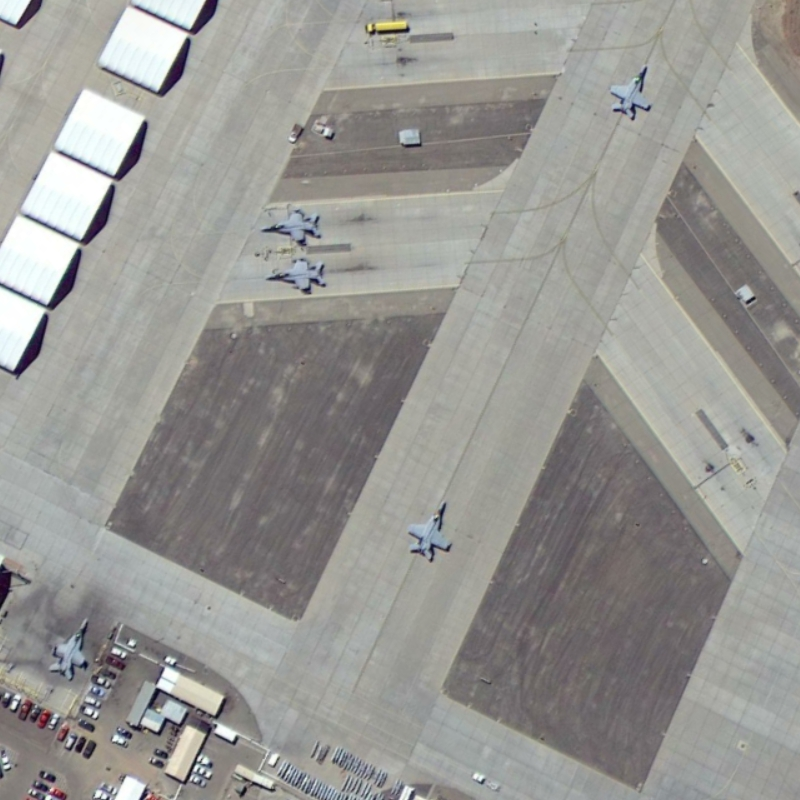A16: (405, 497, 456, 563), (47, 615, 92, 682), (261, 254, 330, 296), (258, 206, 324, 249), (608, 62, 653, 122)
